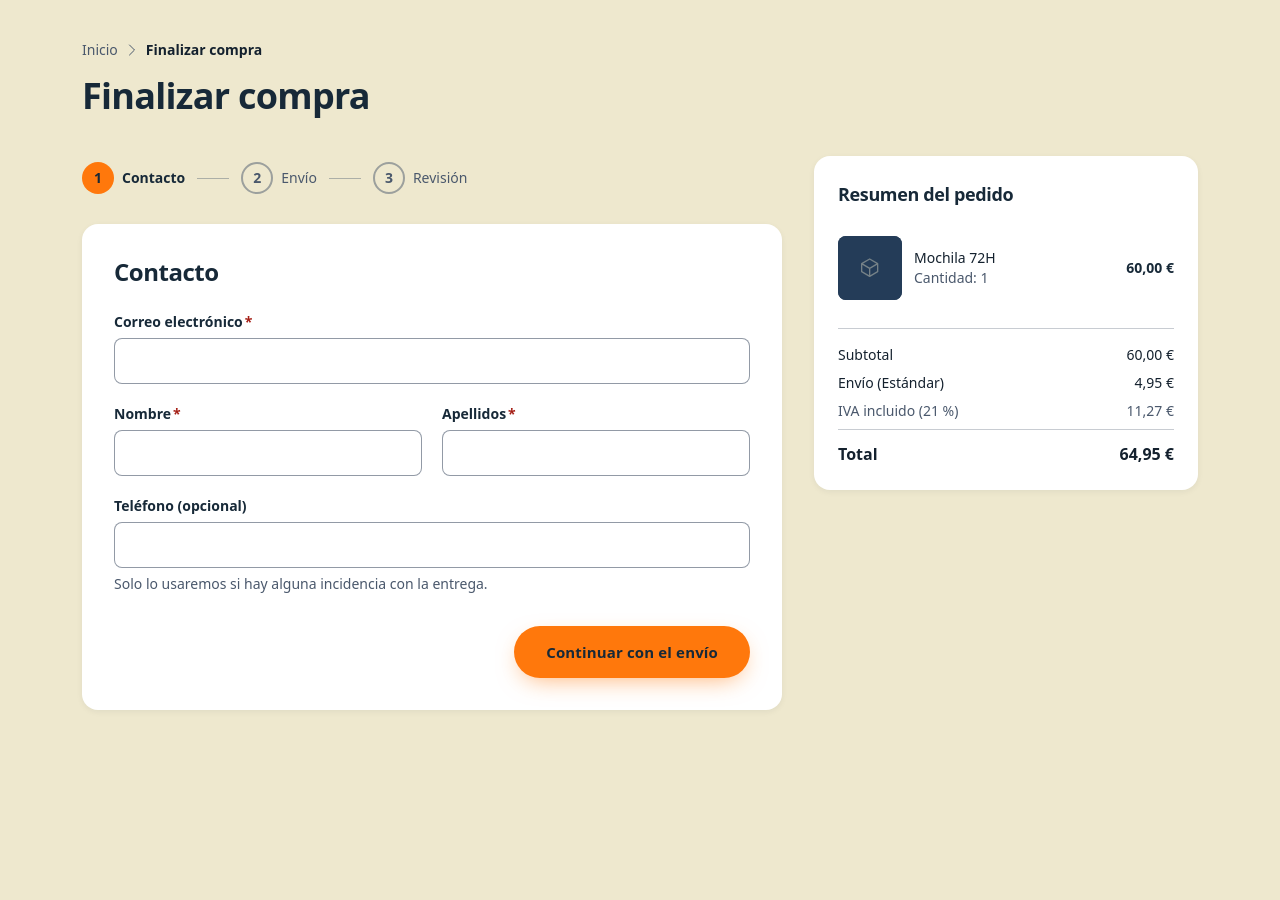
Test case: CheckoutFlow › blocks step 1 on empty required fields with Spanish messages and focuses the first invalid field
Click the button "Continuar con el envío" at point(632, 652), box [514,626,750,678]
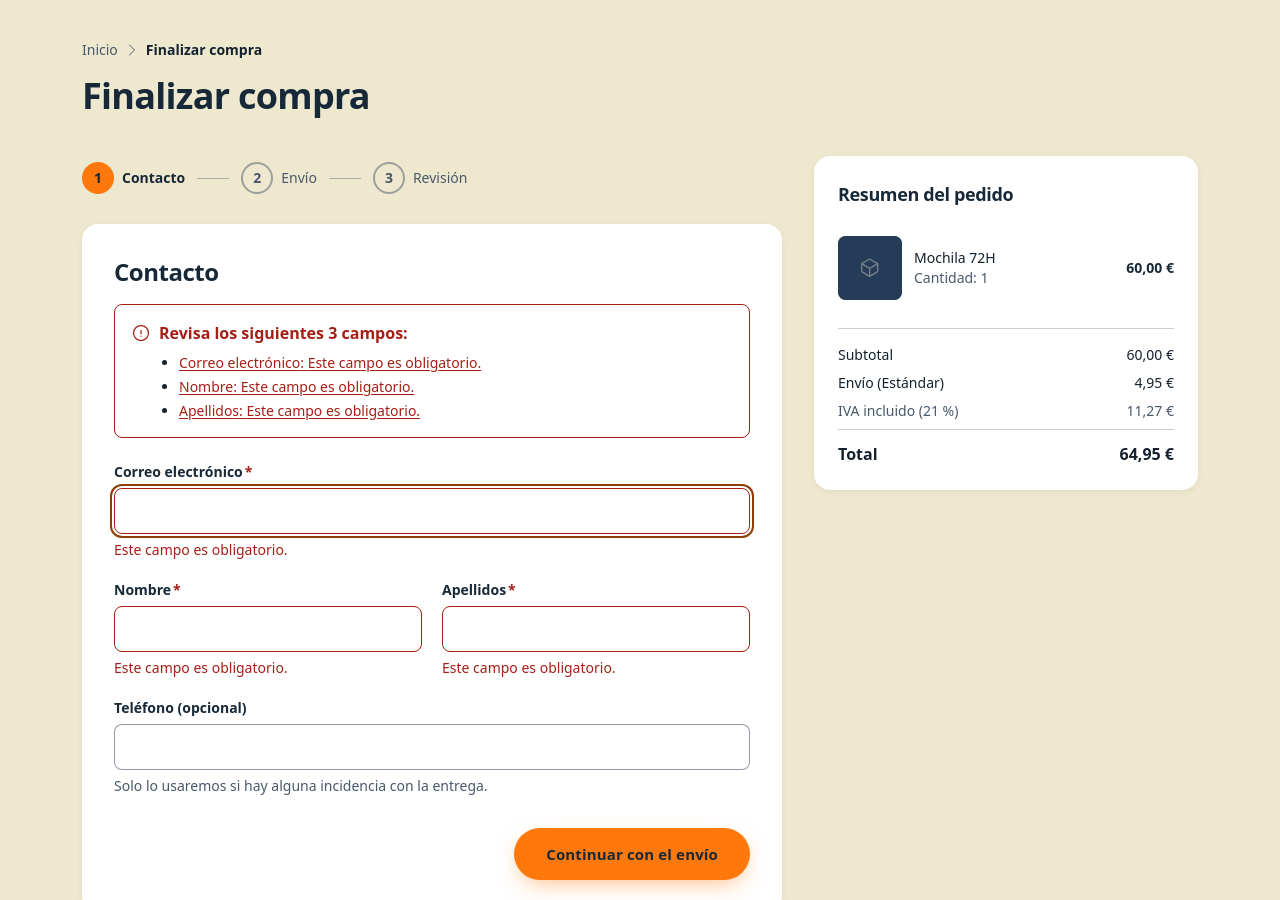
Check: the heading "Contacto" is shown, box [114,255,219,288]
Check: the text "Revisa los siguientes 3 campos:" is shown, box [159,321,408,345]
